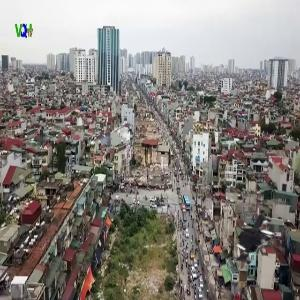drone: (218, 202, 299, 283)
